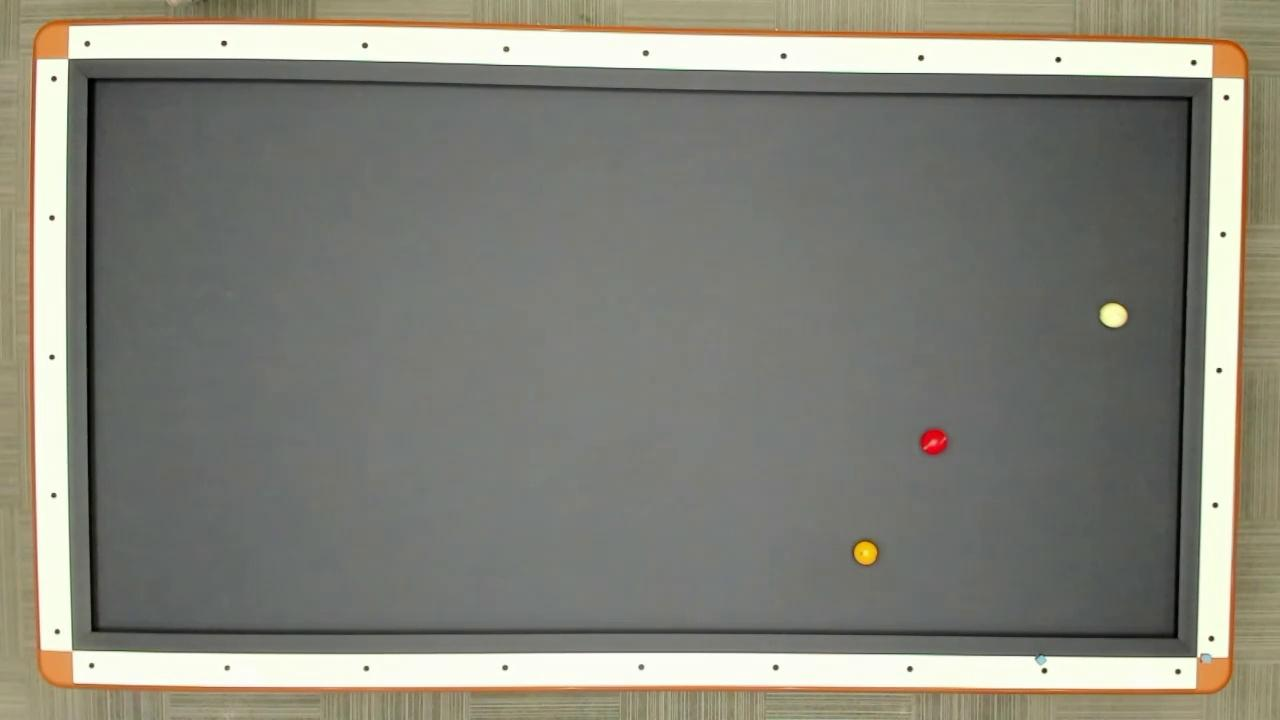Red: (919, 426, 950, 458)
White: (1098, 300, 1130, 330)
Yellow: (852, 538, 880, 567)
